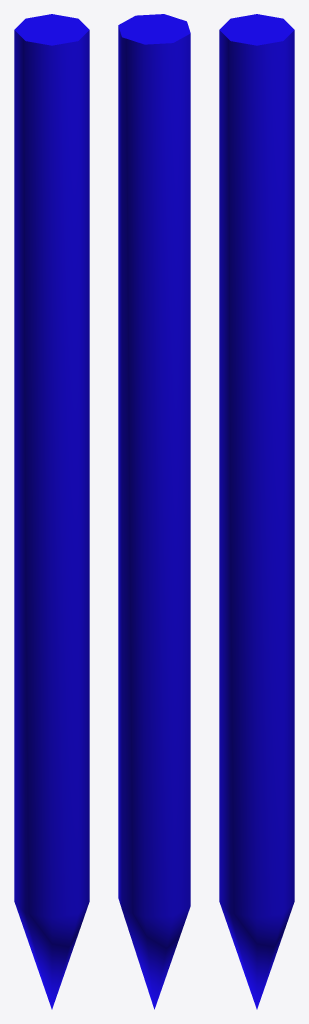
Rendered from office_pack_propellingPencil_1_meshCollider.fbx.
3 views of the same model, side by side, from view 1: azimuth 90°, elevation 25°; view 2: azimuth 210°, elevation 25°; view 3: azimuth 270°, elevation 25° (orthographic).
Parts seen in each view (by area): view 1: office_pack_propellingPencil_1_meshCollider; view 2: office_pack_propellingPencil_1_meshCollider; view 3: office_pack_propellingPencil_1_meshCollider.
Boxes of the visible parts, left/top/right/bottom form: office_pack_propellingPencil_1_meshCollider: left=14, top=14, right=89, bottom=1009; office_pack_propellingPencil_1_meshCollider: left=118, top=14, right=190, bottom=1009; office_pack_propellingPencil_1_meshCollider: left=219, top=14, right=294, bottom=1009.
Size of the model in its own units: 1.5 by 21.65 by 1.5.
